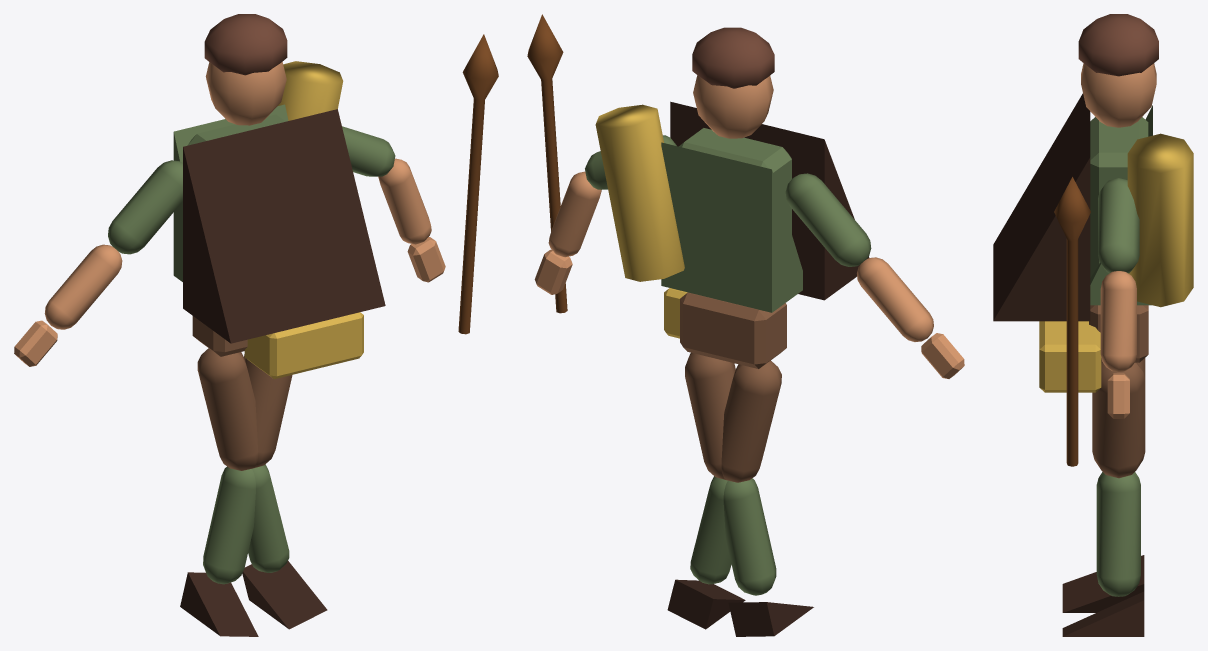
The model's file is adventurer.rustic.glb.
The picture shows the model from 3 angles, left to right: view 1: azimuth 30°, elevation 25°; view 2: azimuth 150°, elevation 25°; view 3: azimuth 270°, elevation 25°; orthographic projection.
Parts seen in each view (by area): view 1: accessory.body, thigh.left, accessory.waist, shin.right, accessory.main-hand, hair, upper-arm.left, head, forearm.left, foot.left, foot.right, shin.left (+9 smaller); view 2: tunic, accessory.back, accessory.body, pelvis, thigh.left, shin.right, upper-arm.left, hair, thigh.right, head, accessory.main-hand, forearm.left (+9 smaller); view 3: accessory.body, accessory.back, shin.left, thigh.right, accessory.main-hand, hair, accessory.waist, head, forearm.right, upper-arm.right, torso, foot.left (+4 smaller).
Boxes of the visible parts, bbox=[...] form: accessory.body: bbox=[183, 109, 385, 343]; thigh.left: bbox=[197, 348, 258, 470]; accessory.waist: bbox=[244, 312, 363, 379]; shin.right: bbox=[203, 466, 255, 584]; accessory.main-hand: bbox=[458, 34, 498, 334]; hair: bbox=[204, 14, 287, 75]; upper-arm.left: bbox=[108, 160, 182, 254]; head: bbox=[205, 62, 286, 125]; forearm.left: bbox=[44, 244, 122, 329]; foot.left: bbox=[242, 561, 327, 629]; foot.right: bbox=[180, 572, 258, 636]; shin.left: bbox=[248, 464, 289, 572]; tunic: bbox=[661, 142, 802, 312]; accessory.back: bbox=[595, 104, 684, 281]; accessory.body: bbox=[670, 101, 869, 300]; pelvis: bbox=[680, 292, 786, 368]; thigh.left: bbox=[721, 360, 781, 482]; shin.right: bbox=[723, 478, 776, 595]; upper-arm.left: bbox=[785, 173, 871, 266]; hair: bbox=[692, 27, 774, 88]; thigh.right: bbox=[685, 352, 735, 479]; head: bbox=[693, 75, 773, 138]; accessory.main-hand: bbox=[527, 14, 567, 313]; forearm.left: bbox=[857, 257, 933, 341]; accessory.body: bbox=[993, 93, 1090, 321]; accessory.back: bbox=[1127, 133, 1193, 307]; shin.left: bbox=[1096, 473, 1140, 596]; thigh.right: bbox=[1092, 362, 1145, 478]; accessory.main-hand: bbox=[1054, 177, 1090, 466]; hair: bbox=[1078, 14, 1158, 76]; accessory.waist: bbox=[1039, 321, 1101, 392]; head: bbox=[1081, 63, 1156, 127]; forearm.right: bbox=[1100, 271, 1136, 372]; upper-arm.right: bbox=[1098, 178, 1139, 273]; torso: bbox=[1090, 117, 1148, 277]; foot.left: bbox=[1062, 591, 1144, 636].
Bounding box in the file's own units: 2.43 × 3.01 × 0.91.
